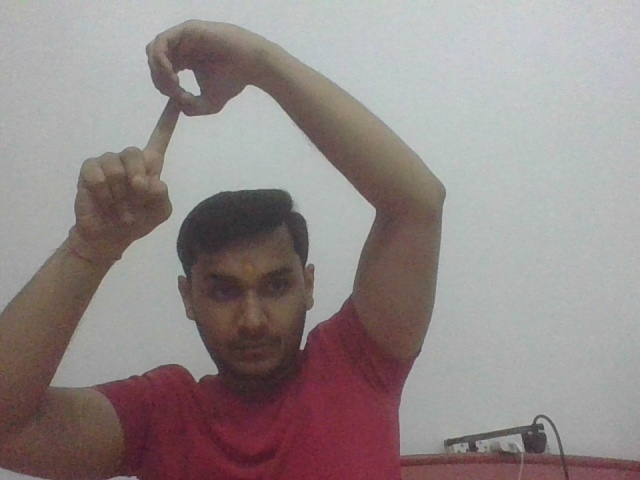Q: (110, 18, 226, 190)
